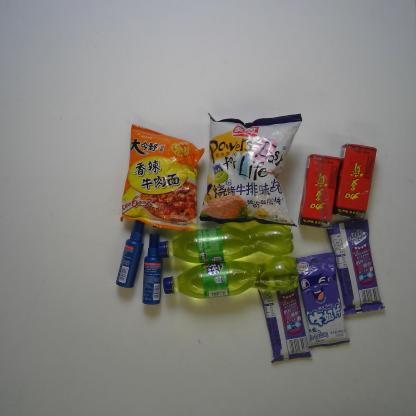Candy: (326, 216, 384, 316), (295, 252, 351, 350), (258, 283, 312, 365)
Drink: (162, 256, 300, 299), (157, 223, 296, 264), (336, 142, 378, 220), (300, 154, 341, 230)
Instant Noodles: (117, 122, 205, 232)
Personal Hygiene: (114, 218, 146, 289), (142, 233, 163, 306)
Puffed Food: (200, 111, 304, 230)
